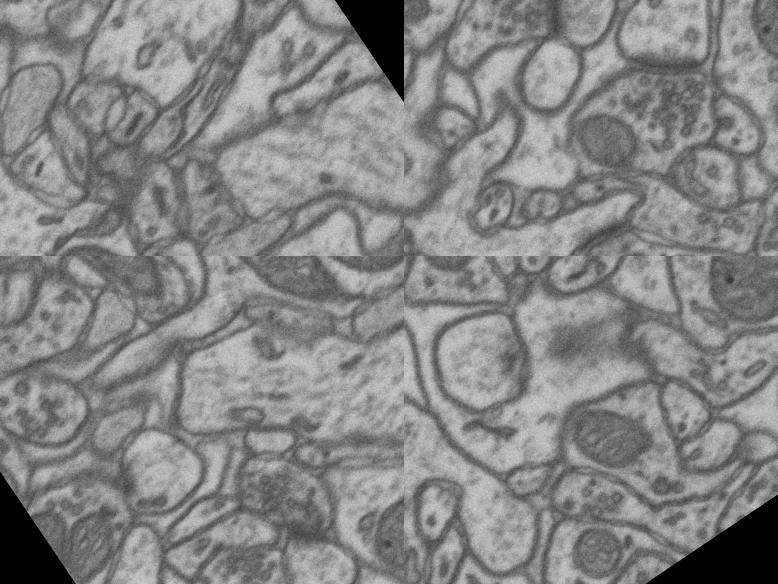mitochondria: (554, 383, 672, 500), (178, 256, 344, 331), (668, 256, 778, 360), (558, 94, 660, 198), (404, 398, 452, 573), (550, 507, 647, 584), (46, 500, 132, 584), (356, 462, 404, 584), (71, 256, 171, 314), (285, 256, 404, 300), (721, 0, 778, 90), (36, 215, 156, 256), (29, 500, 88, 570), (0, 0, 83, 48), (404, 256, 493, 299), (584, 229, 680, 256), (404, 0, 444, 45), (407, 570, 507, 584)
